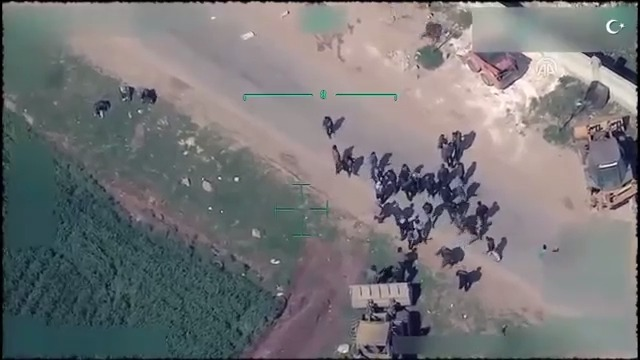insan: (471, 197, 497, 232), (482, 232, 503, 266), (452, 262, 473, 294), (325, 139, 343, 176), (418, 196, 438, 228), (366, 147, 379, 184), (370, 196, 389, 221), (322, 109, 338, 137)
